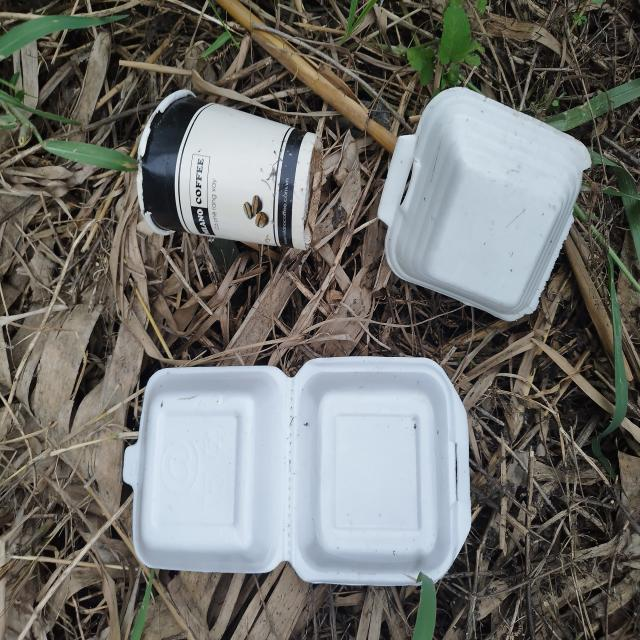foam box: (122, 356, 472, 584), (377, 87, 593, 320)
plastic glass: (136, 90, 324, 251)
